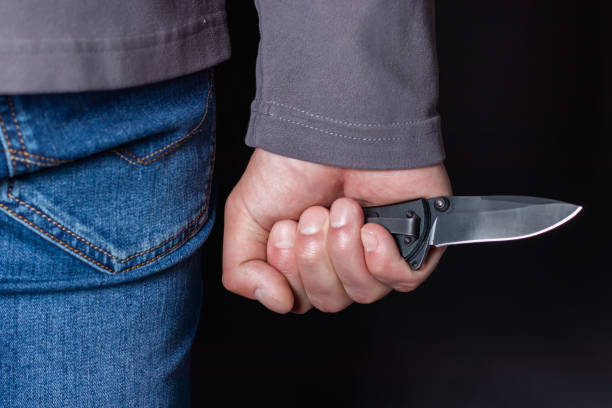knife: (360, 194, 586, 269)
